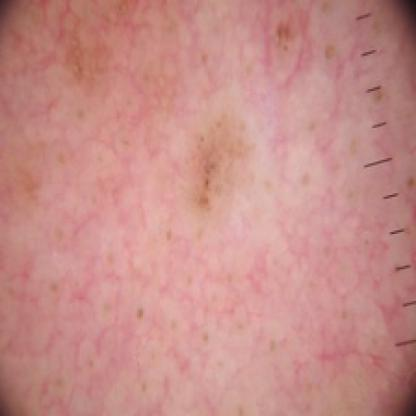malignant: (21, 9, 362, 214)
